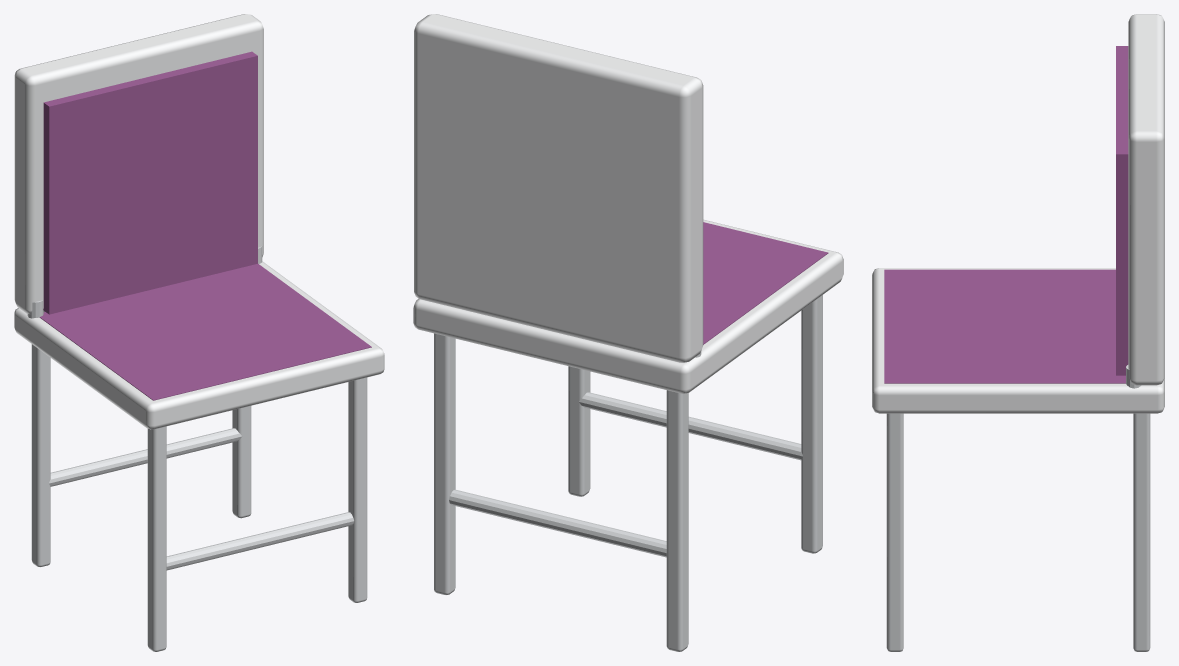
Rendered from chair-training.glb.
3 renders of one model, left to right at view 1: azimuth 30°, elevation 25°; view 2: azimuth 150°, elevation 25°; view 3: azimuth 270°, elevation 25°, orthographic. The views are drawn at different scales.
Visible parts, largest first — view 1: consultation-chair; view 2: consultation-chair; view 3: consultation-chair.
Boxes of the visible parts, left/top/right/bottom form: consultation-chair: left=14, top=14, right=384, bottom=651; consultation-chair: left=413, top=14, right=843, bottom=651; consultation-chair: left=872, top=14, right=1164, bottom=651.
Size of the model in its own units: 0.48 by 0.95 by 0.48.
